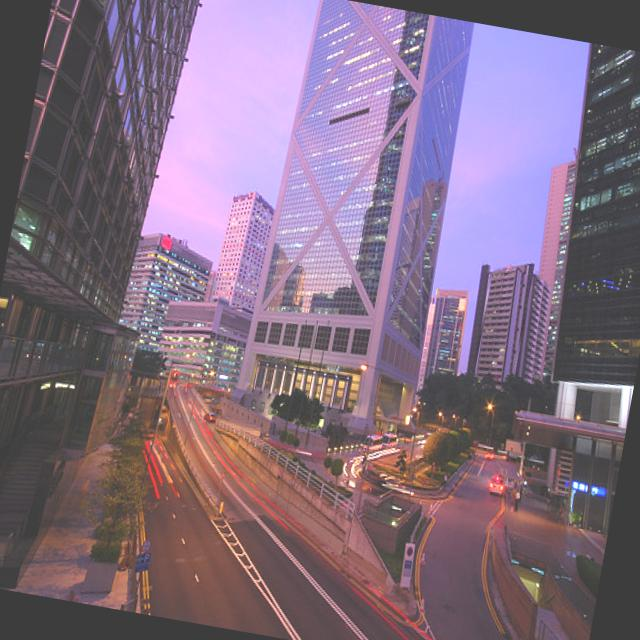Vehicle: (361, 432, 384, 456), (488, 470, 507, 496), (202, 412, 215, 422), (467, 450, 477, 460)
